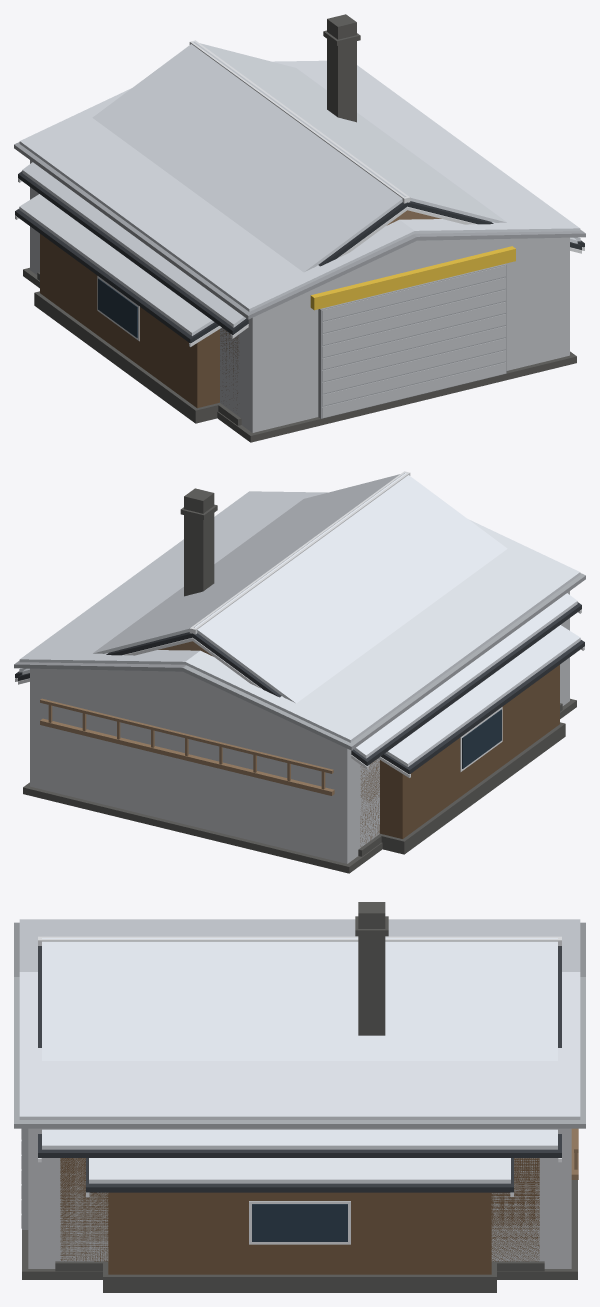
File: buildings.glb
3 renders of one model, top to bottom at view 1: azimuth 30°, elevation 25°; view 2: azimuth 150°, elevation 25°; view 3: azimuth 270°, elevation 25°, orthographic. The views are drawn at different scales.
Parts seen in each view (by area): view 1: bld_garage, bld_cafe, bld_rental; view 2: bld_garage, bld_cafe, bld_rental; view 3: bld_cafe, bld_garage, bld_rental.
Boxes of the visible parts, x1,y1,x2,y2 form: bld_garage: [14, 60, 585, 442]; bld_cafe: [18, 14, 581, 425]; bld_rental: [15, 194, 584, 423]; bld_garage: [14, 491, 585, 873]; bld_cafe: [18, 471, 581, 856]; bld_rental: [15, 625, 584, 854]; bld_cafe: [38, 902, 578, 1271]; bld_garage: [14, 919, 585, 1279]; bld_rental: [86, 1158, 513, 1292].
Size of the model in its own units: 17.4 by 11.17 by 17.9.
